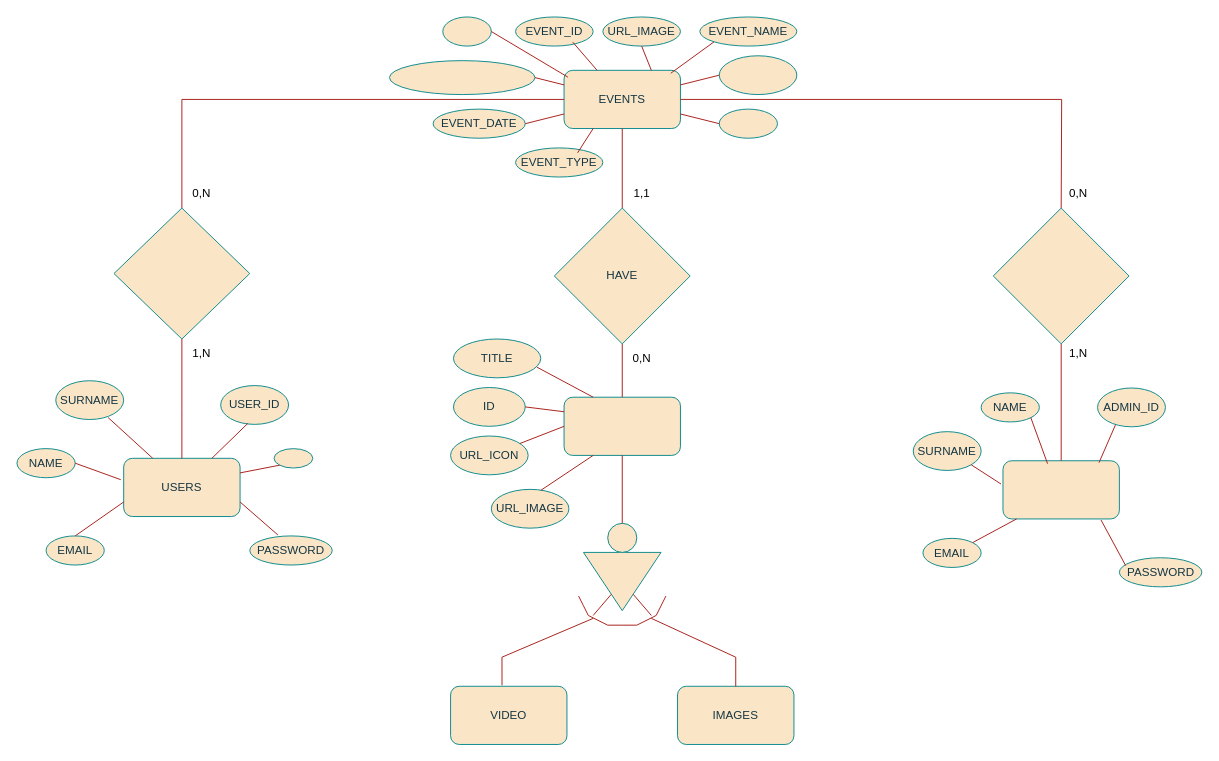
Image size: 1219x761. Some labels were removed from this diagram. The centre of each missing label's shape, as x and y in pixels:
ADMINS: the point at 1060,489
AUDIOVISUAL MATERIAL: the point at 621,425
DNI: the point at 293,458
DURATION: the point at 757,75
EVENT_DESCRIPTION: the point at 461,77
MANAGE: the point at 1060,275
PLACES: the point at 747,123
PRICE: the point at 466,31
REGISTRATIONS: the point at 181,273
